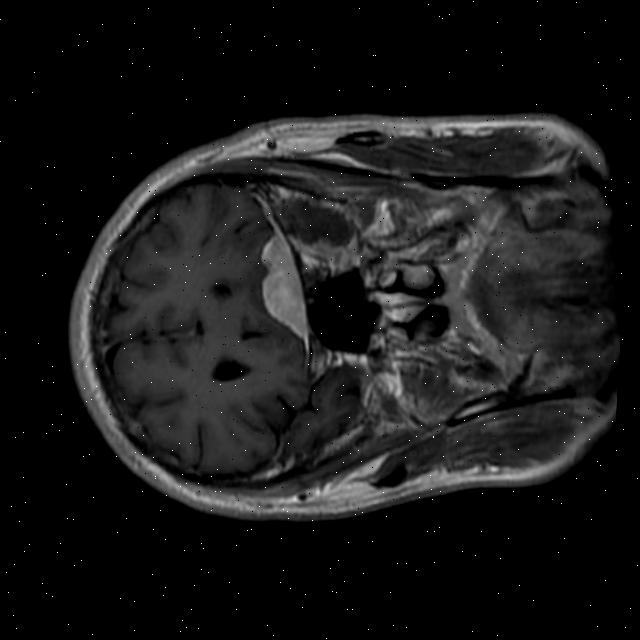Meningioma: (249, 225, 318, 349)
